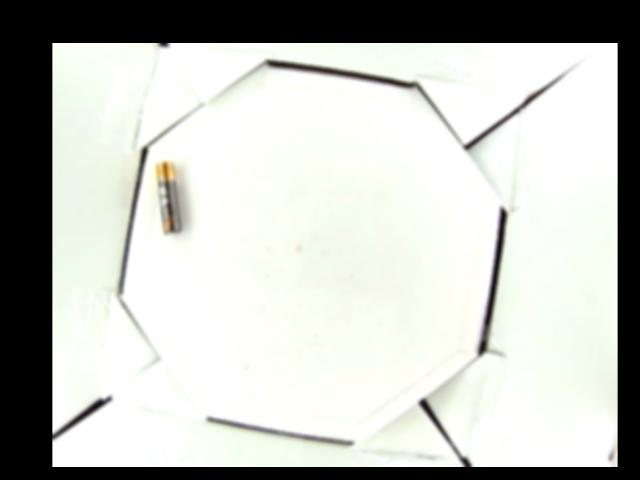Battery: (153, 161, 183, 236)
